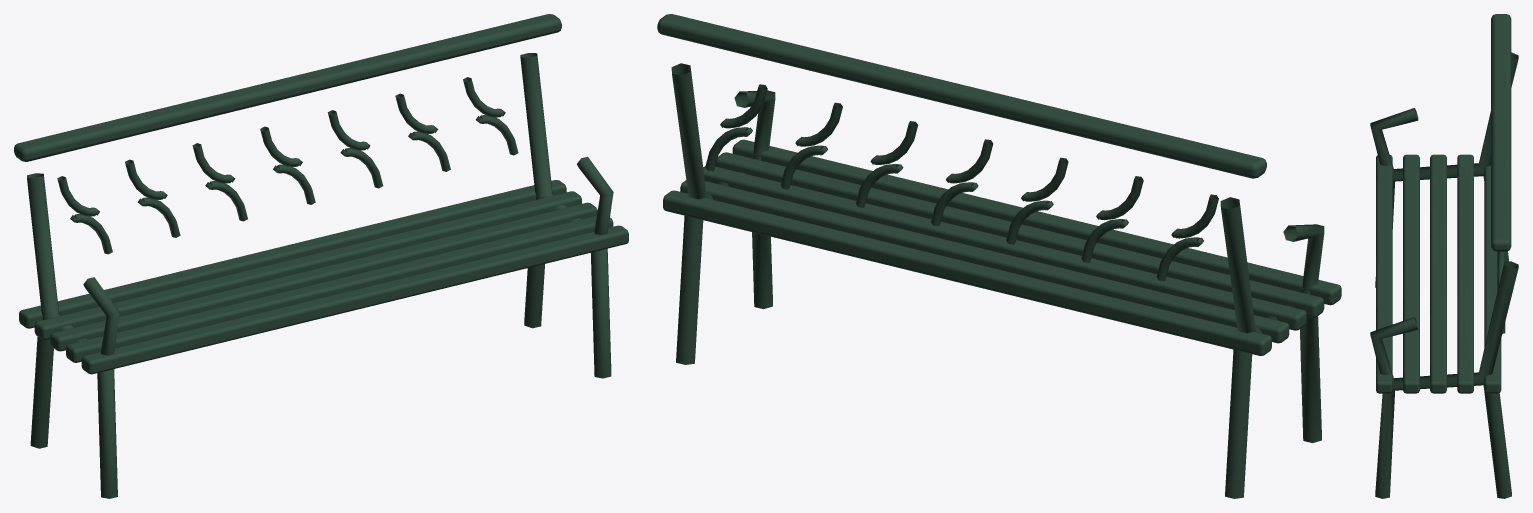
The model's file is furn_od_iron_bench.glb.
3 renders of one model, left to right at view 1: azimuth 30°, elevation 25°; view 2: azimuth 150°, elevation 25°; view 3: azimuth 270°, elevation 25°, orthographic. The views are drawn at different scales.
Parts seen in each view (by area): view 1: furn_od_iron_bench_main; view 2: furn_od_iron_bench_main; view 3: furn_od_iron_bench_main.
Part boxes in pixels (left/top/right/bottom): furn_od_iron_bench_main: left=14, top=14, right=628, bottom=498; furn_od_iron_bench_main: left=657, top=14, right=1341, bottom=498; furn_od_iron_bench_main: left=1370, top=14, right=1518, bottom=498.
Size of the model in its own units: 1.6 by 0.8624 by 0.4372.
